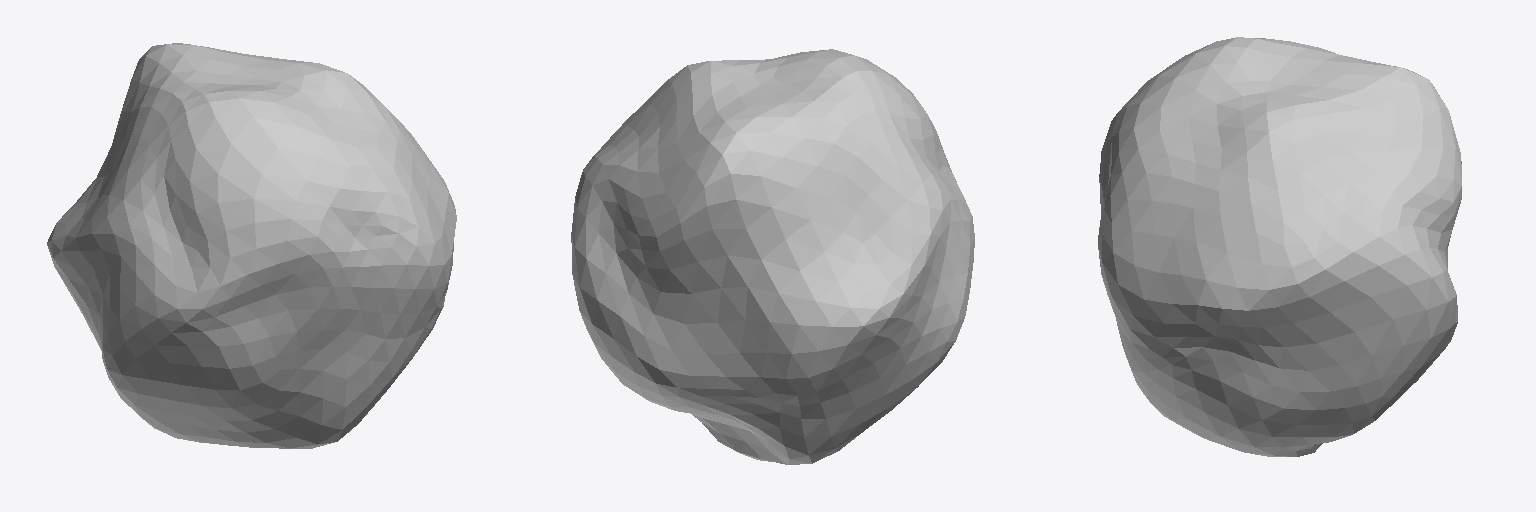
The model's file is gory lodowe1.obj.
3 renders of one model, left to right at view 1: azimuth 30°, elevation 25°; view 2: azimuth 150°, elevation 25°; view 3: azimuth 270°, elevation 25°, orthographic.
Visible parts, largest first — view 1: Icosphere.003; view 2: Icosphere.003; view 3: Icosphere.003.
Part boxes in pixels (bbox=[...]): Icosphere.003: bbox=[47, 43, 456, 448]; Icosphere.003: bbox=[571, 49, 974, 464]; Icosphere.003: bbox=[1098, 37, 1461, 456].
Size of the model in its own units: 2 by 2.1 by 1.84.